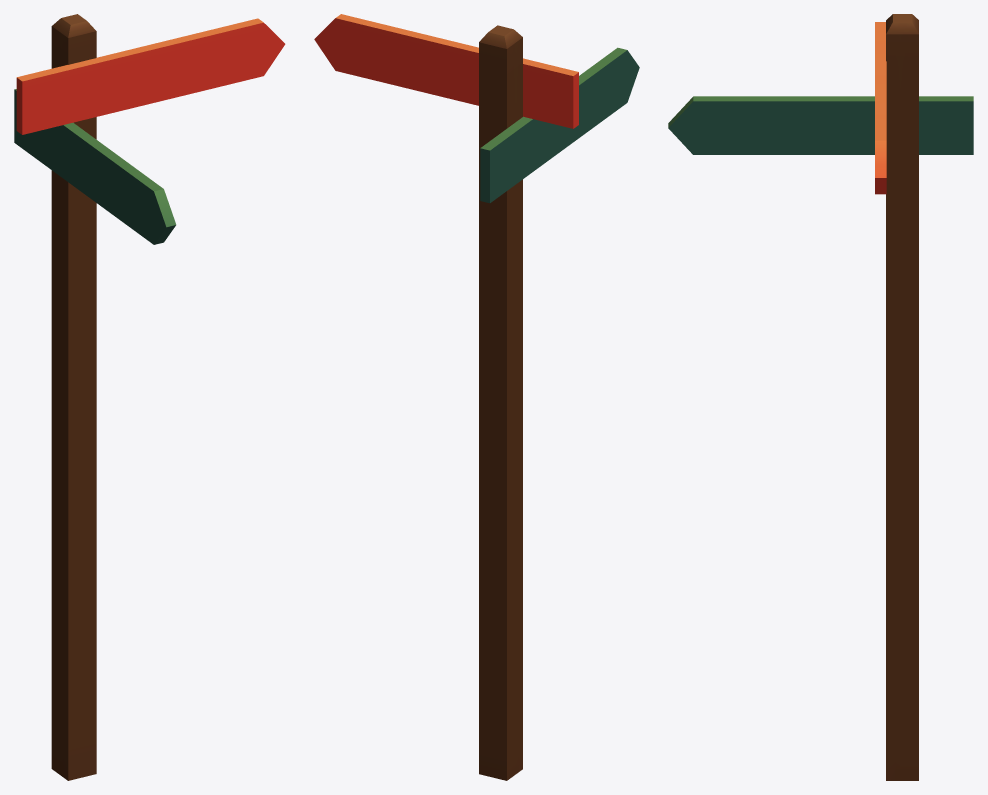
The model's file is RoadStick.FBX.
3 views of the same model, side by side, from view 1: azimuth 30°, elevation 25°; view 2: azimuth 150°, elevation 25°; view 3: azimuth 270°, elevation 25° (orthographic). The views are drawn at different scales.
Parts seen in each view (by area): view 1: pasted__Post_Sign; view 2: pasted__Post_Sign; view 3: pasted__Post_Sign.
Part boxes in pixels (bbox=[...]): pasted__Post_Sign: bbox=[14, 14, 285, 780]; pasted__Post_Sign: bbox=[314, 14, 639, 780]; pasted__Post_Sign: bbox=[668, 14, 973, 780].
Bounding box in the file's own units: 29.49 × 80.53 × 29.49.
